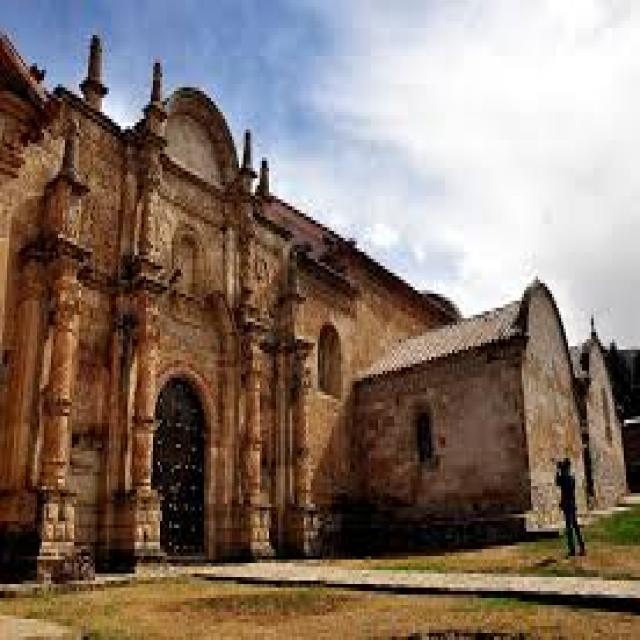colonial-architecture-: (136, 315, 244, 573)
